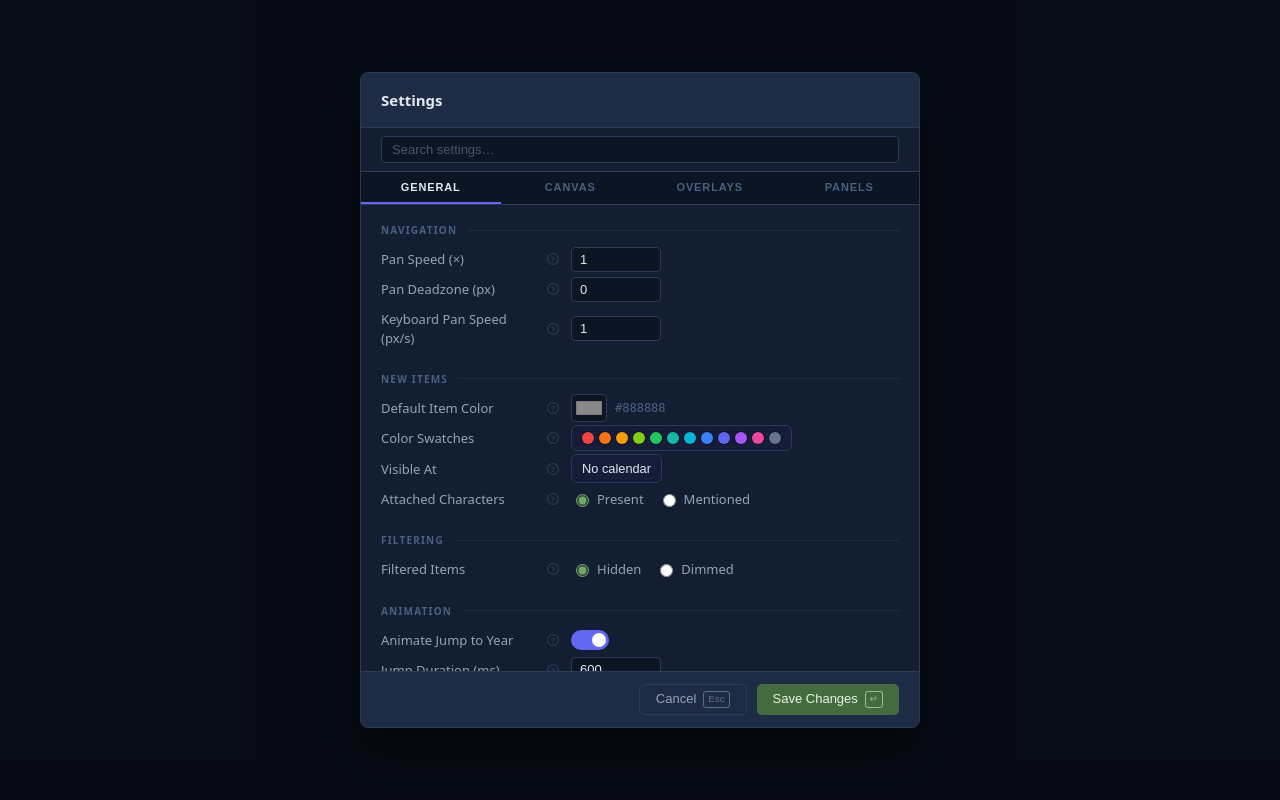
Scenario: TimelineSettingsModal › shows error message when save fails
Click the button with class "btn-save" at (828,700), box x1=756 y1=684 x2=899 y2=715
(page scrolled)
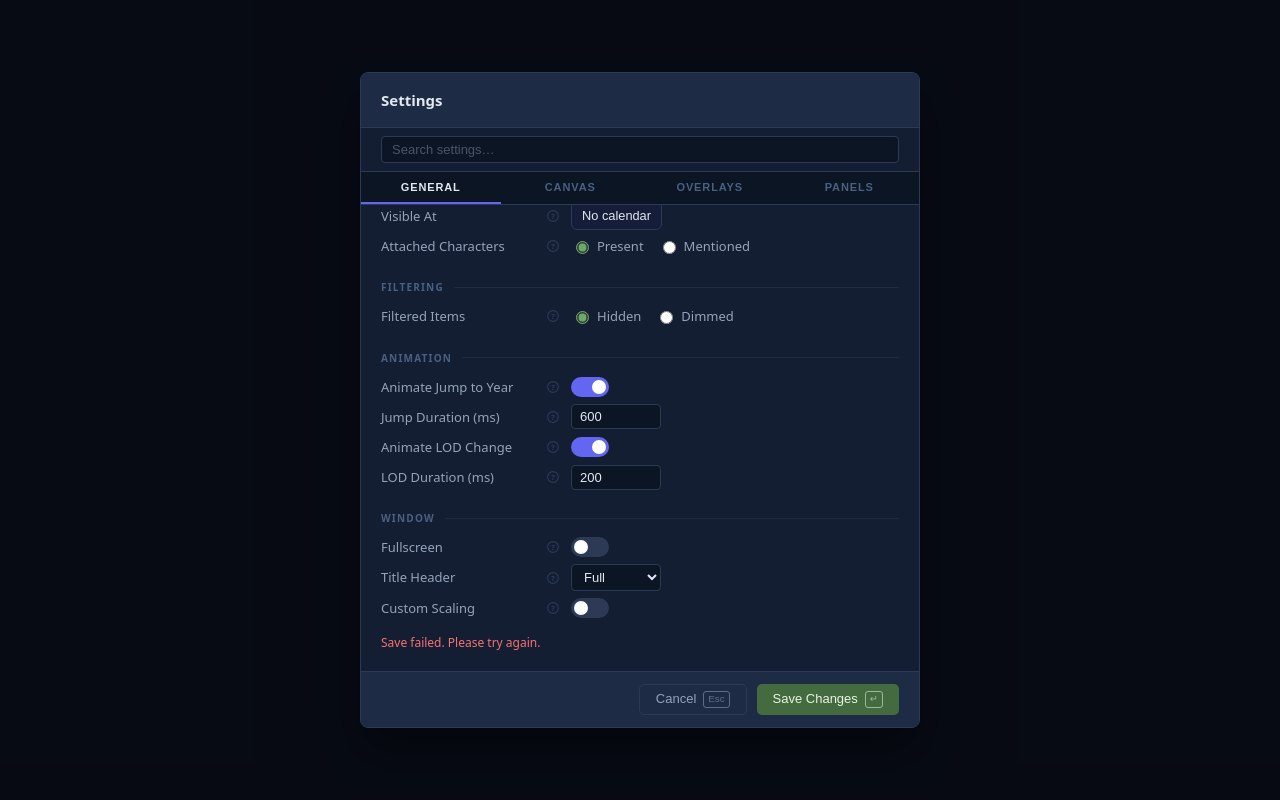
Check: the text with class "error-msg" shows "Save failed", box x1=381 y1=634 x2=540 y2=651
